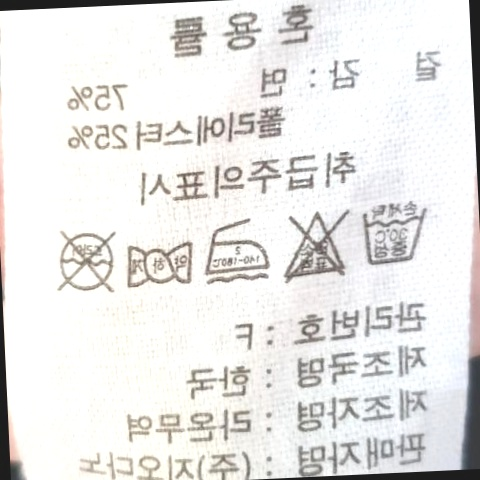DN_dry_clean: (49, 223, 120, 299)
hand_wash: (356, 201, 433, 270)
iron_medium: (202, 216, 270, 282)
non_chlorine_bleach: (273, 204, 352, 287)
wring: (122, 234, 197, 293)
